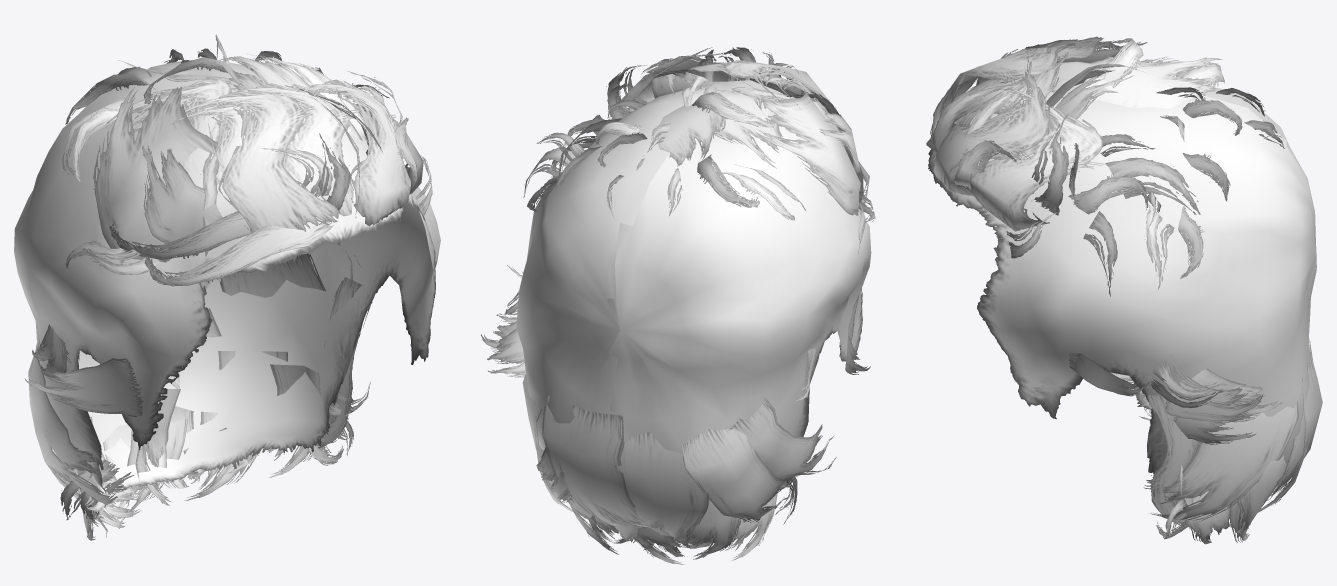
The model's file is hair_100.glb.
3 views of the same model, side by side, from view 1: azimuth 30°, elevation 25°; view 2: azimuth 150°, elevation 25°; view 3: azimuth 270°, elevation 25° (orthographic). The views are drawn at different scales.
Visible parts, largest first — view 1: hair_cards, hair_cap; view 2: hair_cap, hair_cards; view 3: hair_cap, hair_cards.
Part boxes in pixels (x1=…): hair_cards: x1=24, y1=34, x2=432, y2=540; hair_cap: x1=14, y1=60, x2=440, y2=508; hair_cap: x1=516, y1=80, x2=871, y2=527; hair_cards: x1=481, y1=47, x2=875, y2=564; hair_cap: x1=928, y1=80, x2=1316, y2=501; hair_cards: x1=926, y1=36, x2=1322, y2=544.
Size of the model in its own units: 0.229 by 0.2782 by 0.2073.
Materials: 2 (2 with a texture image).
